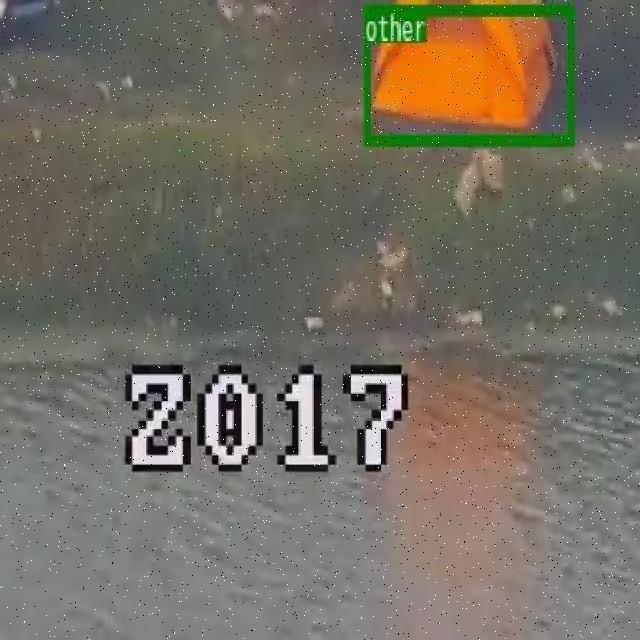Smoke: (363, 5, 572, 144)
